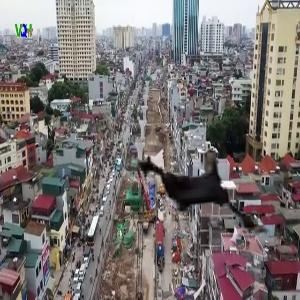drone: (109, 100, 284, 275)
